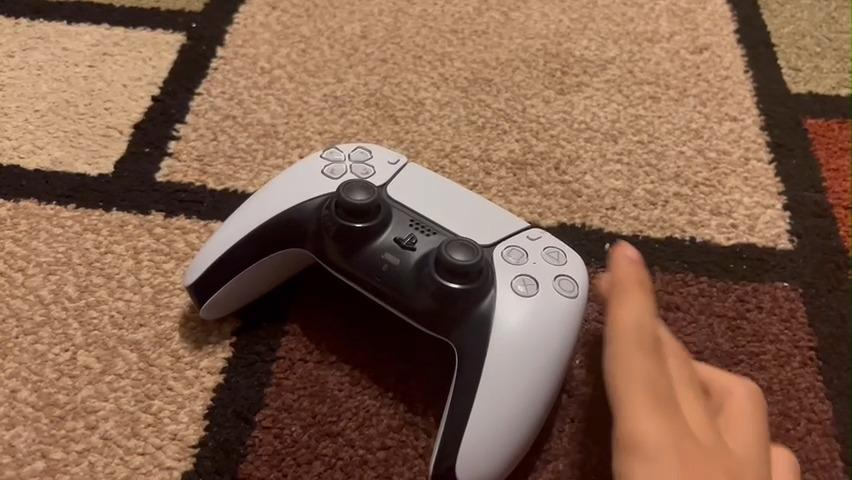controller: (170, 128, 590, 479)
